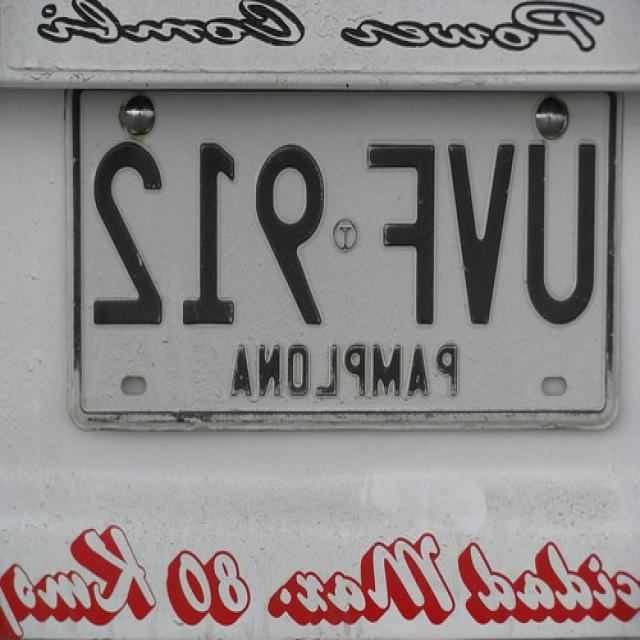placas: (75, 99, 604, 337)
